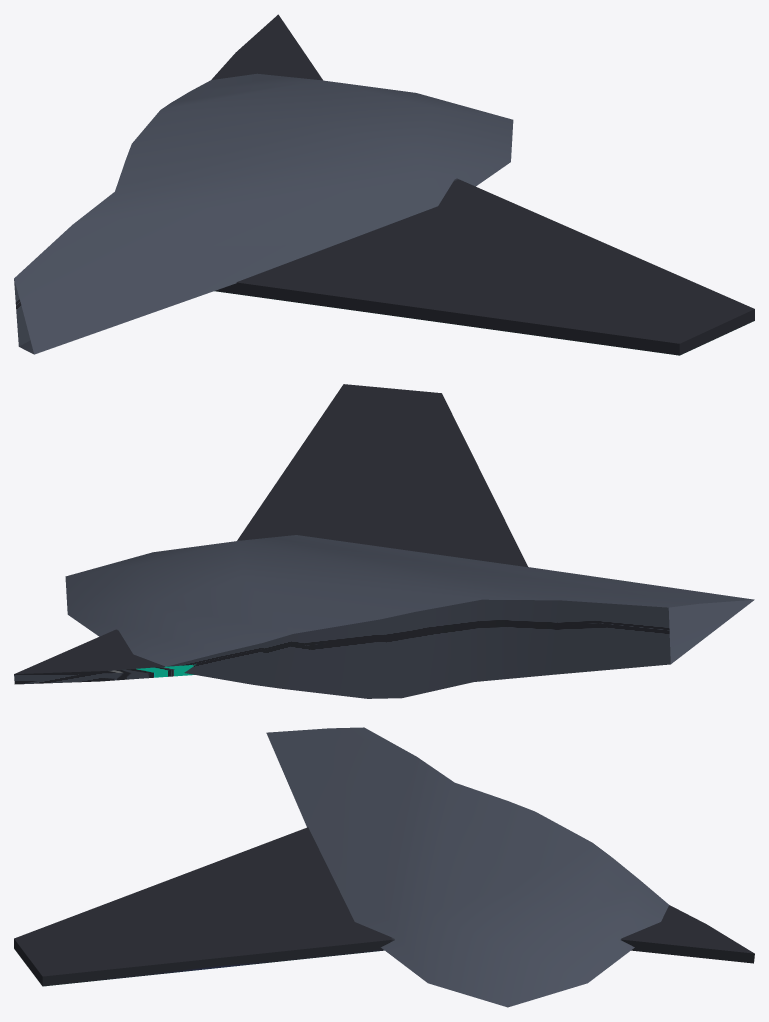
Rendered from r_spaceship_crashed_tail.fbx.
3 renders of one model, top to bottom at view 1: azimuth 30°, elevation 25°; view 2: azimuth 150°, elevation 25°; view 3: azimuth 270°, elevation 25°, orthographic. The views are drawn at different scales.
Visible parts, largest first — view 1: r_spaceship_crashed_tail; view 2: r_spaceship_crashed_tail; view 3: r_spaceship_crashed_tail.
Part boxes in pixels (x1=…): r_spaceship_crashed_tail: x1=14, y1=14, x2=754, y2=355; r_spaceship_crashed_tail: x1=14, y1=384, x2=754, y2=698; r_spaceship_crashed_tail: x1=14, y1=727, x2=754, y2=1007.
Bounding box in the file's own units: 771 × 118 × 941.
Materials: 1 (1 with a texture image).
